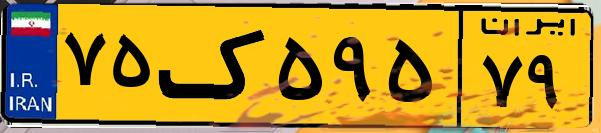5: (270, 28, 330, 110), (385, 28, 445, 110), (110, 28, 158, 98)
7: (57, 26, 110, 100), (475, 38, 525, 113)
9: (330, 28, 385, 110), (525, 38, 570, 115)
ک: (158, 12, 270, 120)
